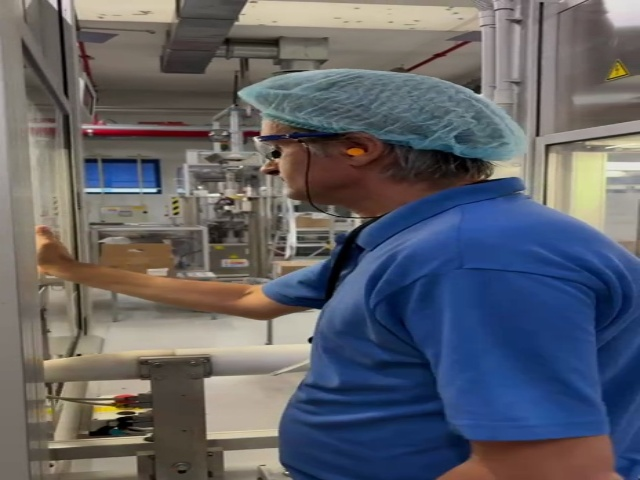Earplug: (339, 133, 384, 169)
Hairnet: (243, 67, 527, 159)
No_Helmet: (245, 66, 528, 158)
No_Vest: (278, 215, 640, 480)
Person: (1, 69, 640, 480)
Safety_Goggles: (247, 129, 344, 156)
